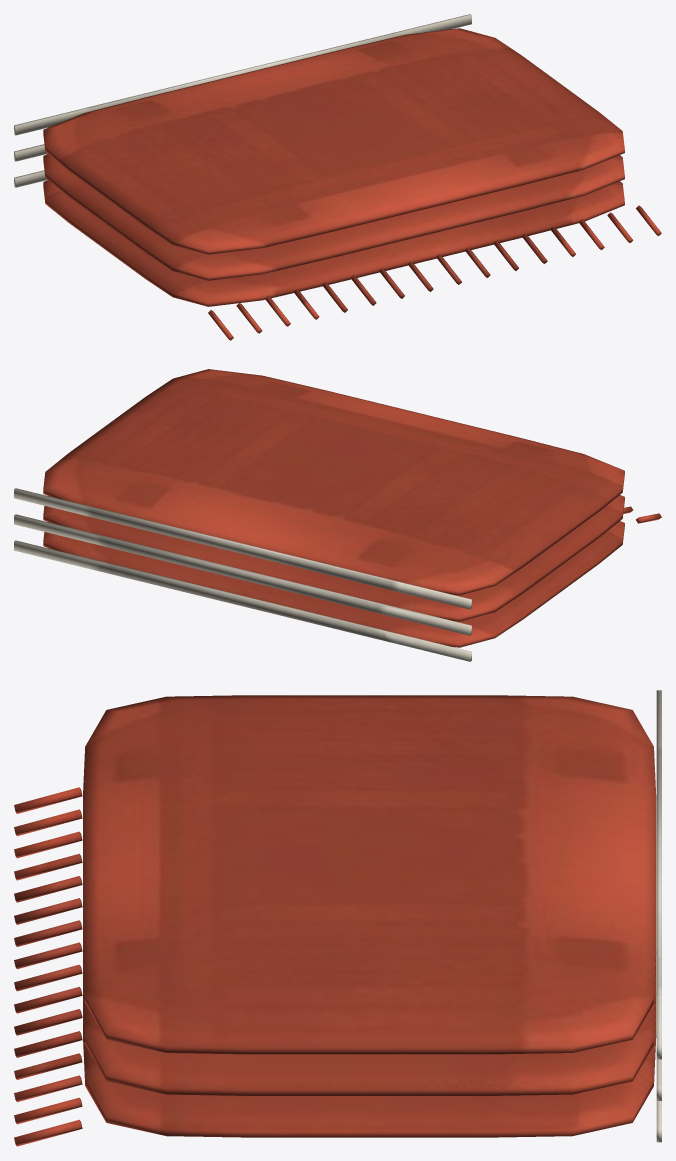
File: blanket_red.glb
3 views of the same model, one above another, from view 1: azimuth 30°, elevation 25°; view 2: azimuth 150°, elevation 25°; view 3: azimuth 270°, elevation 25° (orthographic). The views are drawn at different scales.
Visible parts, largest first — view 1: blanket_red_felt_red, blanket_red_felt_ivory; view 2: blanket_red_felt_red, blanket_red_felt_ivory; view 3: blanket_red_felt_red, blanket_red_felt_ivory.
Part boxes in pixels (x1,y1,x2,y2): blanket_red_felt_red: (43, 28, 661, 340); blanket_red_felt_ivory: (14, 14, 471, 187); blanket_red_felt_red: (43, 369, 661, 647); blanket_red_felt_ivory: (14, 488, 471, 661); blanket_red_felt_red: (14, 695, 656, 1146); blanket_red_felt_ivory: (656, 690, 661, 1142).
Bounding box in the file's own units: 1.28 × 0.2194 × 0.9883.
Materials: 2 (2 with a texture image).
